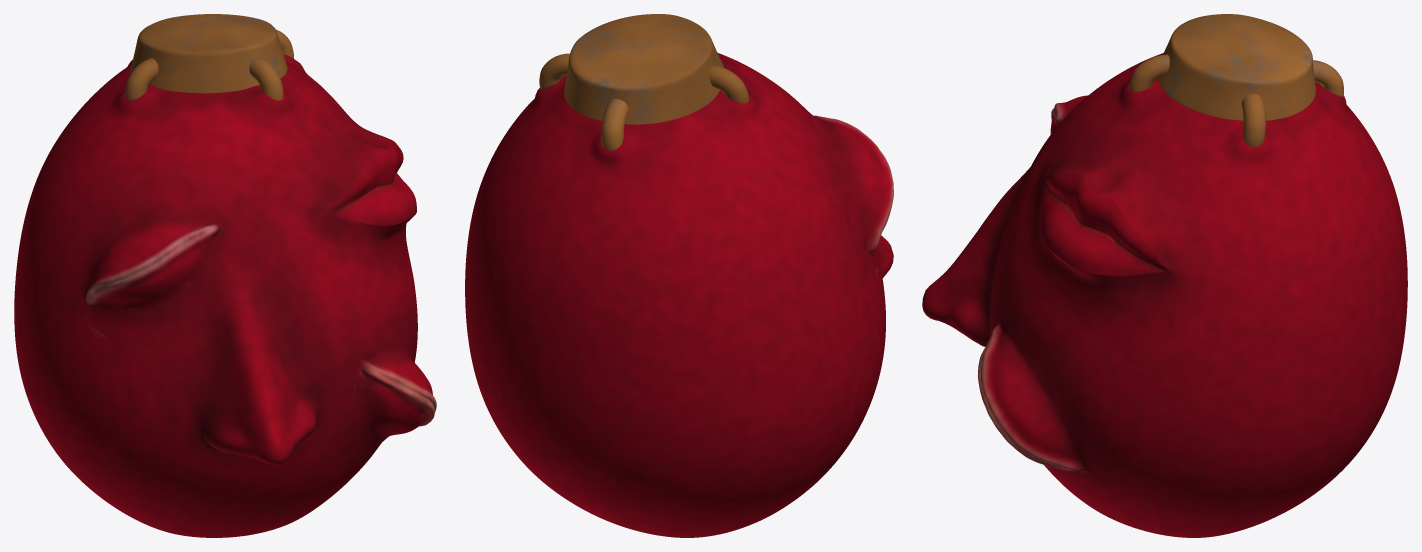
File: Behelit.fbx
The picture shows the model from 3 angles, left to right: view 1: azimuth 30°, elevation 25°; view 2: azimuth 150°, elevation 25°; view 3: azimuth 270°, elevation 25°; orthographic projection. The views are drawn at different scales.
Parts seen in each view (by area): view 1: Sphere.002_wire; view 2: Sphere.002_wire; view 3: Sphere.002_wire.
Part boxes in pixels (x1,y1,x2,y2): Sphere.002_wire: (14,14,436,537); Sphere.002_wire: (465,14,893,537); Sphere.002_wire: (922,14,1407,537).
Size of the model in its own units: 598 by 777 by 698.
